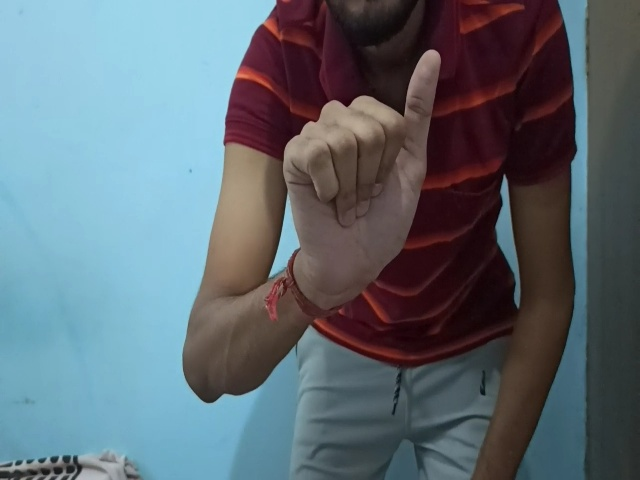A: (283, 48, 441, 286)
